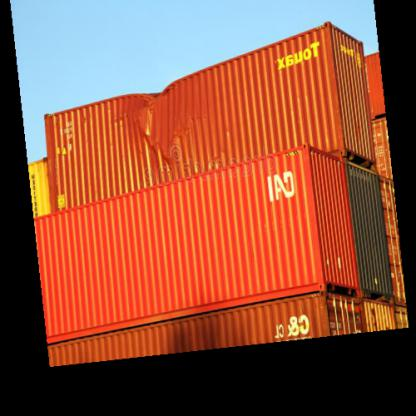Damage: (137, 76, 191, 159)
